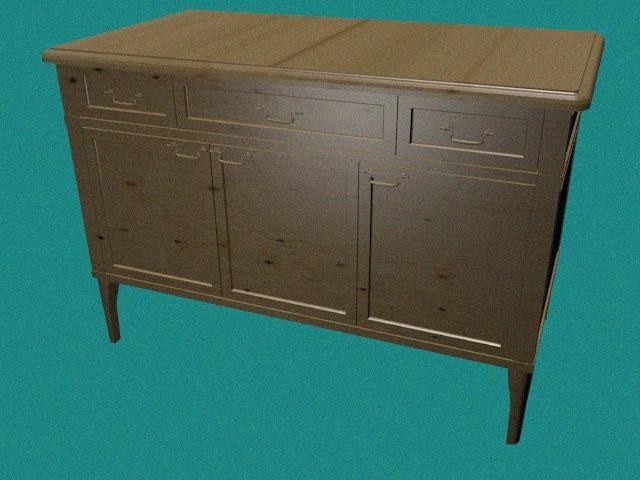cabinet_door: (357, 174, 524, 342), (215, 153, 357, 312), (93, 134, 215, 284), (175, 85, 396, 142), (397, 103, 541, 165), (74, 70, 174, 123)
handle: (156, 137, 211, 164), (256, 103, 309, 130), (101, 86, 148, 113), (210, 147, 253, 173), (365, 171, 404, 193), (454, 131, 487, 147)
